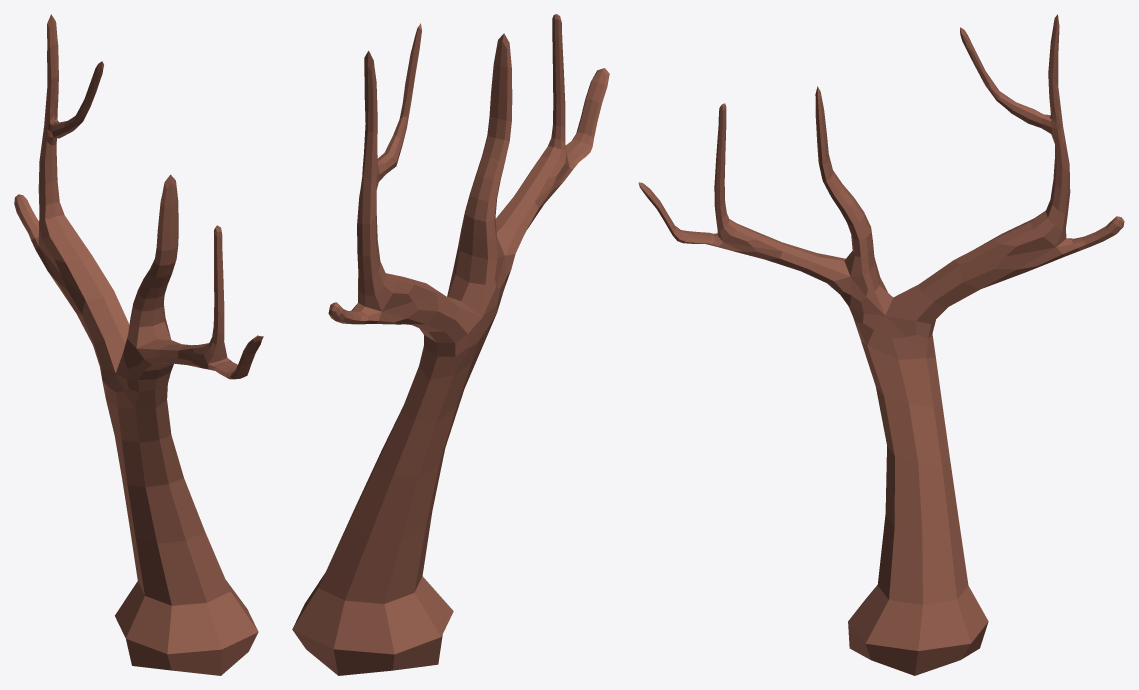
File: Tree3.fbx
The picture shows the model from 3 angles, left to right: view 1: azimuth 30°, elevation 25°; view 2: azimuth 150°, elevation 25°; view 3: azimuth 270°, elevation 25°; orthographic projection. The views are drawn at different scales.
Visible parts, largest first — view 1: Tree2; view 2: Tree2; view 3: Tree2.
Boxes of the visible parts, left/top/right/bottom form: Tree2: left=14, top=14, right=263, bottom=675; Tree2: left=292, top=14, right=609, bottom=675; Tree2: left=638, top=14, right=1124, bottom=675.
Size of the model in its own units: 316 by 1258 by 906.
